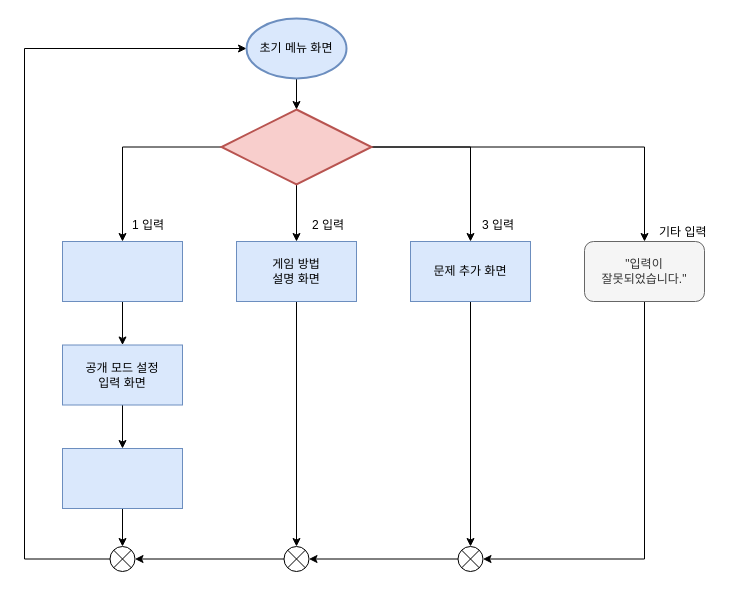
Some shapes in this 735 by 589 pixel diagram are drawn without their labels. Here are the shapes that lost their labels. From the top down, the centre of each, then its label:
(296,146): "메뉴 번호를 입력해주세요."
(122,271): 문제 번호 입력 화면
(122,478): 게임 화면
